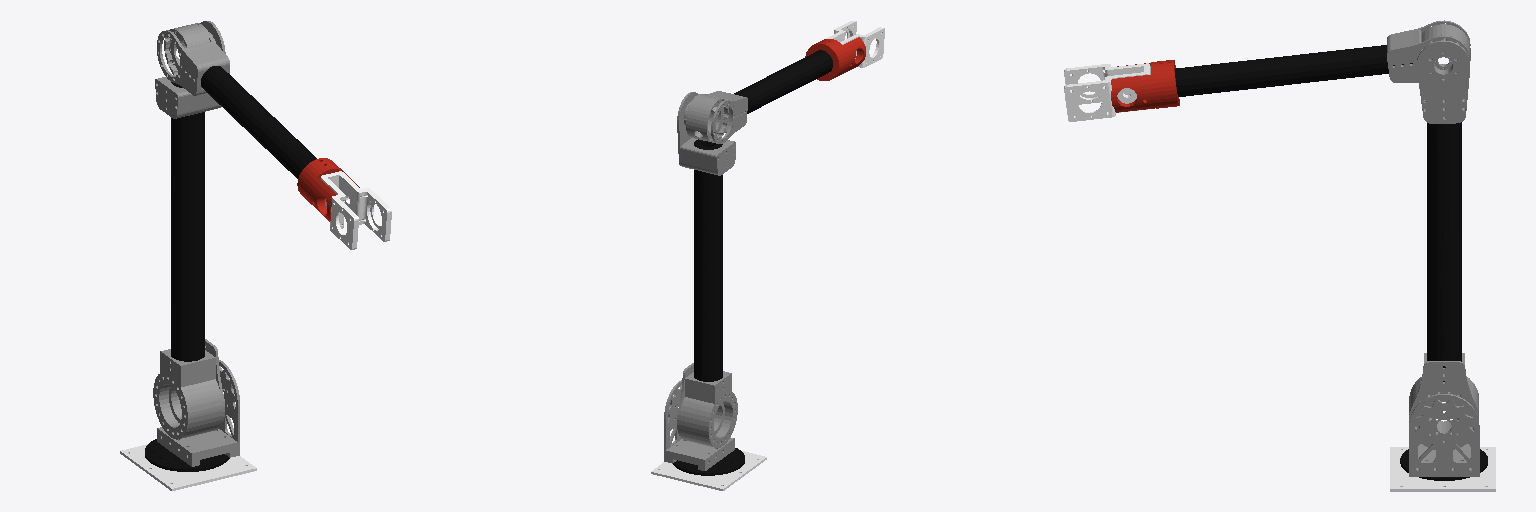
robot.urdf — manipulator1:
<?xml version="1.0" encoding="utf-8"?>
<!-- This URDF was automatically created by SolidWorks to URDF Exporter! Originally created by [author] ([email redacted]) 
     Commit Version: 1.6.0-4-g7f85cfe  Build Version: 1.6.7995.38578
     For more information, please see http://wiki.ros.org/sw_urdf_exporter -->
<robot
  name="manipulator1">
  <link
    name="base_link">
    <inertial>
      <origin
        xyz="-2.22044604925031E-16 -0.00224854905210781 4.44089209850063E-16"
        rpy="0 0 0" />
      <mass
        value="0.139707136084498" />
      <inertia
        ixx="0.000407966760717312"
        ixy="-2.98071223098969E-19"
        ixz="2.52359462446658E-18"
        iyy="0.000362153855961994"
        iyz="6.68817379847048E-18"
        izz="0.000769538503612287" />
    </inertial>
    <visual>
      <origin
        xyz="0 0 0"
        rpy="0 0 0" />
      <geometry>
        <mesh
          filename="package://manipulator1/meshes/base_link.STL" />
      </geometry>
      <material
        name="">
        <color
          rgba="0.96078431372549 0.96078431372549 0.964705882352941 1" />
      </material>
    </visual>
    <collision>
      <origin
        xyz="0 0 0"
        rpy="0 0 0" />
      <geometry>
        <mesh
          filename="package://manipulator1/meshes/base_link.STL" />
      </geometry>
    </collision>
  </link>
  <link
    name="base_plate">
    <inertial>
      <origin
        xyz="-1.22886286372248E-05 0 1.11022302462516E-16"
        rpy="0 0 0" />
      <mass
        value="0.0862820052494155" />
      <inertia
        ixx="0.000123802300064541"
        ixy="1.06663922016303E-19"
        ixz="8.84714563380274E-19"
        iyy="0.000121470538062705"
        iyz="2.03454754632287E-18"
        izz="0.00024491332977204" />
    </inertial>
    <visual>
      <origin
        xyz="0 0 0"
        rpy="0 0 0" />
      <geometry>
        <mesh
          filename="package://manipulator1/meshes/base_plate.STL" />
      </geometry>
      <material
        name="">
        <color
          rgba="0.0980392156862745 0.0980392156862745 0.0980392156862745 1" />
      </material>
    </visual>
    <collision>
      <origin
        xyz="0 0 0"
        rpy="0 0 0" />
      <geometry>
        <mesh
          filename="package://manipulator1/meshes/base_plate.STL" />
      </geometry>
    </collision>
  </link>
  <joint
    name="base_link_j_base_plate"
    type="revolute">
    <limit lower="-3.14" upper="3.14" effort="100" velocity="5.0"/>
    <origin
      xyz="0 0 0.015"
      rpy="0 0 0" />
    <parent
      link="base_link" />
    <child
      link="base_plate" />
    <axis
      xyz="0 0 -1" />
    <limit
      lower="0"
      upper="6.28"
      effort="500"
      velocity="5" />
  </joint>
  <link
    name="plate_support">
    <inertial>
      <origin
        xyz="4.44089209850063E-16 0.0599999999999996 9.42699875334796E-05"
        rpy="0 0 0" />
      <mass
        value="0.20022424904567" />
      <inertia
        ixx="0.000252771572791514"
        ixy="-4.18218020954489E-19"
        ixz="1.13901000627266E-18"
        iyy="0.000176249764770248"
        iyz="4.112236499079E-18"
        izz="0.00041080341734212" />
    </inertial>
    <visual>
      <origin
        xyz="0 0 0"
        rpy="0 0 0" />
      <geometry>
        <mesh
          filename="package://manipulator1/meshes/plate_support.STL" />
      </geometry>
      <material
        name="">
        <color
          rgba="0.627450980392157 0.627450980392157 0.627450980392157 1" />
      </material>
    </visual>
    <collision>
      <origin
        xyz="0 0 0"
        rpy="0 0 0" />
      <geometry>
        <mesh
          filename="package://manipulator1/meshes/plate_support.STL" />
      </geometry>
    </collision>
  </link>
  <joint
    name="baseplate_j_plate_support"
    type="fixed">
    <origin
      xyz="0.0195 -0.06 0.018179"
      rpy="0 0 0" />
    <parent
      link="base_plate" />
    <child
      link="plate_support" />
    <axis
      xyz="0 0 0" />
  </joint>
  <link
    name="link1_side_plate1">
    <inertial>
      <origin
        xyz="4.44089209850063E-16 0.0150134261644279 0.0554613514893123"
        rpy="0 0 0" />
      <mass
        value="0.0682158367067577" />
      <inertia
        ixx="0.000205387282310402"
        ixy="-5.49279557105901E-19"
        ixz="-9.74556171742922E-19"
        iyy="0.000126772358326724"
        iyz="-1.08018754993082E-08"
        izz="7.88991566366221E-05" />
    </inertial>
    <visual>
      <origin
        xyz="0 0 0"
        rpy="0 0 0" />
      <geometry>
        <mesh
          filename="package://manipulator1/meshes/link1_side_plate1.STL" />
      </geometry>
      <material
        name="">
        <color
          rgba="0.627450980392157 0.627450980392157 0.627450980392157 1" />
      </material>
    </visual>
    <collision>
      <origin
        xyz="0 0 0"
        rpy="0 0 0" />
      <geometry>
        <mesh
          filename="package://manipulator1/meshes/link1_side_plate1.STL" />
      </geometry>
    </collision>
  </link>
  <joint
    name="plate_support_j_sideplate1"
    type="fixed">
    <origin
      xyz="0.0485 0.045 -0.00067857"
      rpy="0 0 0" />
    <parent
      link="plate_support" />
    <child
      link="link1_side_plate1" />
    <axis
      xyz="0 0 0" />
  </joint>
  <link
    name="link1_side_plate12">
    <inertial>
      <origin
        xyz="4.44089209850063E-16 4.44089209850063E-16 0.0310582864617434"
        rpy="0 0 0" />
      <mass
        value="0.0499638320857503" />
      <inertia
        ixx="0.000167600746600551"
        ixy="9.28776659826906E-21"
        ixz="-1.33327816191701E-19"
        iyy="0.000117287241228739"
        iyz="-7.43091486371195E-19"
        izz="5.05216880055031E-05" />
    </inertial>
    <visual>
      <origin
        xyz="0 0 0"
        rpy="0 0 0" />
      <geometry>
        <mesh
          filename="package://manipulator1/meshes/link1_side_plate12.STL" />
      </geometry>
      <material
        name="">
        <color
          rgba="0.627450980392157 0.627450980392157 0.627450980392157 1" />
      </material>
    </visual>
    <collision>
      <origin
        xyz="0 0 0"
        rpy="0 0 0" />
      <geometry>
        <mesh
          filename="package://manipulator1/meshes/link1_side_plate12.STL" />
      </geometry>
    </collision>
  </link>
  <joint
    name="side_plate1_j_side_plate12"
    type="revolute">
    <limit lower="-3.14" upper="3.14" effort="100" velocity="5.0"/>
    <origin
      xyz="-0.03 0.015 0.08"
      rpy="0 0 0" />
    <parent
      link="link1_side_plate1" />
    <child
      link="link1_side_plate12" />
    <axis
      xyz="1 0 0" />
    <limit
      lower="-1.57"
      upper="1.57"
      effort="500"
      velocity="1" />
  </joint>
  <link
    name="outer_shaft1">
    <inertial>
      <origin
        xyz="-0.00772630874309455 4.44089209850063E-16 -1.11022302462516E-16"
        rpy="0 0 0" />
      <mass
        value="0.509143234421642" />
      <inertia
        ixx="0.00118267157071951"
        ixy="2.14660790273393E-19"
        ixz="-2.13692540459406E-19"
        iyy="0.000788001513669385"
        iyz="-2.07806932890846E-20"
        izz="0.000788001513669385" />
    </inertial>
    <visual>
      <origin
        xyz="0 0 0"
        rpy="0 0 0" />
      <geometry>
        <mesh
          filename="package://manipulator1/meshes/outer_shaft1.STL" />
      </geometry>
      <material
        name="">
        <color
          rgba="0.627450980392157 0.627450980392157 0.627450980392157 1" />
      </material>
    </visual>
    <collision>
      <origin
        xyz="0 0 0"
        rpy="0 0 0" />
      <geometry>
        <mesh
          filename="package://manipulator1/meshes/outer_shaft1.STL" />
      </geometry>
    </collision>
  </link>
  <joint
    name="side_plate12_j_outer_shaft1"
    type="fixed">
    <origin
      xyz="-0.028 0 0"
      rpy="0 0 0" />
    <parent
      link="link1_side_plate12" />
    <child
      link="outer_shaft1" />
    <axis
      xyz="0 0 0" />
  </joint>
  <link
    name="link1_holder">
    <inertial>
      <origin
        xyz="1.54143921293759E-07 -2.52144496393214E-08 -0.005799534584638"
        rpy="0 0 0" />
      <mass
        value="0.0841346188443606" />
      <inertia
        ixx="6.47642859009133E-05"
        ixy="8.23411710931886E-12"
        ixz="-1.08890847202512E-11"
        iyy="5.82653437006155E-05"
        iyz="2.9352113029424E-12"
        izz="0.000103444871427076" />
    </inertial>
    <visual>
      <origin
        xyz="0 0 0"
        rpy="0 0 0" />
      <geometry>
        <mesh
          filename="package://manipulator1/meshes/link1_holder.STL" />
      </geometry>
      <material
        name="">
        <color
          rgba="0.627450980392157 0.627450980392157 0.627450980392157 1" />
      </material>
    </visual>
    <collision>
      <origin
        xyz="0 0 0"
        rpy="0 0 0" />
      <geometry>
        <mesh
          filename="package://manipulator1/meshes/link1_holder.STL" />
      </geometry>
    </collision>
  </link>
  <joint
    name="outer_shaft1_j_link1_holder"
    type="fixed">
    <origin
      xyz="-0.0095001 0 0.076"
      rpy="0 0 0" />
    <parent
      link="outer_shaft1" />
    <child
      link="link1_holder" />
    <axis
      xyz="0 0 0" />
  </joint>
  <link
    name="link1">
    <inertial>
      <origin
        xyz="2.61491217568022E-09 -1.96853406908559E-08 -1.68497195167649E-05"
        rpy="0 0 0" />
      <mass
        value="1.16262072100795" />
      <inertia
        ixx="0.0294764673709808"
        ixy="-7.58278885604543E-09"
        ixz="3.71883808278725E-09"
        iyy="0.0294766181912142"
        iyz="5.34641410549775E-09"
        izz="0.000654113236445879" />
    </inertial>
    <visual>
      <origin
        xyz="0 0 0"
        rpy="0 0 0" />
      <geometry>
        <mesh
          filename="package://manipulator1/meshes/link1.STL" />
      </geometry>
      <material
        name="">
        <color
          rgba="0.0980392156862745 0.0980392156862745 0.0980392156862745 1" />
      </material>
    </visual>
    <collision>
      <origin
        xyz="0 0 0"
        rpy="0 0 0" />
      <geometry>
        <mesh
          filename="package://manipulator1/meshes/link1.STL" />
      </geometry>
    </collision>
  </link>
  <joint
    name="link1_holder_j_link1"
    type="fixed">
    <origin
      xyz="0 0 0.26095"
      rpy="0 0 0" />
    <parent
      link="link1_holder" />
    <child
      link="link1" />
    <axis
      xyz="0 0 0" />
  </joint>
  <link
    name="link1_end_part">
    <inertial>
      <origin
        xyz="-1.74060011626231E-07 1.57060774164108E-07 0.00113323234783302"
        rpy="0 0 0" />
      <mass
        value="0.171901132424438" />
      <inertia
        ixx="0.000147281829071962"
        ixy="-2.17389957093923E-11"
        ixz="-4.90680401859828E-10"
        iyy="0.000200174484694879"
        iyz="1.42730130731353E-09"
        izz="0.000271952693993483" />
    </inertial>
    <visual>
      <origin
        xyz="0 0 0"
        rpy="0 0 0" />
      <geometry>
        <mesh
          filename="package://manipulator1/meshes/link1_end_part.STL" />
      </geometry>
      <material
        name="">
        <color
          rgba="0.627450980392157 0.627450980392157 0.627450980392157 1" />
      </material>
    </visual>
    <collision>
      <origin
        xyz="0 0 0"
        rpy="0 0 0" />
      <geometry>
        <mesh
          filename="package://manipulator1/meshes/link1_end_part.STL" />
      </geometry>
    </collision>
  </link>
  <joint
    name="link1_J_end_part"
    type="fixed">
    <origin
      xyz="0 0 0.24912"
      rpy="0 0 0" />
    <parent
      link="link1" />
    <child
      link="link1_end_part" />
    <axis
      xyz="0 0 0" />
  </joint>
  <link
    name="link2_side_plate11">
    <inertial>
      <origin
        xyz="5.55111512312578E-16 -0.000621912582690287 0.0311549842986414"
        rpy="0 0 0" />
      <mass
        value="0.0528050348230078" />
      <inertia
        ixx="0.000126324772056133"
        ixy="1.50694660718213E-20"
        ixz="-5.54646076186613E-20"
        iyy="9.4701438016944E-05"
        iyz="1.25526676387361E-06"
        izz="3.18433550176184E-05" />
    </inertial>
    <visual>
      <origin
        xyz="0 0 0"
        rpy="0 0 0" />
      <geometry>
        <mesh
          filename="package://manipulator1/meshes/link2_side_plate11.STL" />
      </geometry>
      <material
        name="">
        <color
          rgba="0.627450980392157 0.627450980392157 0.627450980392157 1" />
      </material>
    </visual>
    <collision>
      <origin
        xyz="0 0 0"
        rpy="0 0 0" />
      <geometry>
        <mesh
          filename="package://manipulator1/meshes/link2_side_plate11.STL" />
      </geometry>
    </collision>
  </link>
  <joint
    name="end_part_j_side_plate11"
    type="fixed">
    <origin
      xyz="0.0455 0 0.015927"
      rpy="0 0 0" />
    <parent
      link="link1_end_part" />
    <child
      link="link2_side_plate11" />
    <axis
      xyz="0 0 0" />
  </joint>
  <link
    name="motor_holder">
    <inertial>
      <origin
        xyz="-0.00584650550007593 -2.22044604925031E-16 -4.44089209850063E-16"
        rpy="0 0 0" />
      <mass
        value="0.031956101125965" />
      <inertia
        ixx="1.46272579690827E-05"
        ixy="-3.04094854525027E-22"
        ixz="-1.34311000273746E-20"
        iyy="8.61130071305443E-06"
        iyz="2.56712386368993E-21"
        izz="8.61130071305441E-06" />
    </inertial>
    <visual>
      <origin
        xyz="0 0 0"
        rpy="0 0 0" />
      <geometry>
        <mesh
          filename="package://manipulator1/meshes/motor_holder.STL" />
      </geometry>
      <material
        name="">
        <color
          rgba="0.627450980392157 0.627450980392157 0.627450980392157 1" />
      </material>
    </visual>
    <collision>
      <origin
        xyz="0 0 0"
        rpy="0 0 0" />
      <geometry>
        <mesh
          filename="package://manipulator1/meshes/motor_holder.STL" />
      </geometry>
    </collision>
  </link>
  <joint
    name="link2_side_plate11_j_motor_holder"
    type="fixed">
    <origin
      xyz="-0.00675 -0.0013172 0.065987"
      rpy="0 0 0" />
    <parent
      link="link2_side_plate11" />
    <child
      link="motor_holder" />
    <axis
      xyz="0 0 0" />
  </joint>
  <link
    name="link2_side_plate_12">
    <inertial>
      <origin
        xyz="5.55111512312578E-16 -0.039717131815086 -0.00491984724371952"
        rpy="0 0 0" />
      <mass
        value="0.0287294522350535" />
      <inertia
        ixx="6.13941167735551E-05"
        ixy="3.3920635179007E-20"
        ixz="-6.2467002738095E-21"
        iyy="1.74811605790006E-05"
        iyz="-3.34024586969494E-06"
        izz="4.40326622455339E-05" />
    </inertial>
    <visual>
      <origin
        xyz="0 0 0"
        rpy="0 0 0" />
      <geometry>
        <mesh
          filename="package://manipulator1/meshes/link2_side_plate_12.STL" />
      </geometry>
      <material
        name="">
        <color
          rgba="0.627450980392157 0.627450980392157 0.627450980392157 1" />
      </material>
    </visual>
    <collision>
      <origin
        xyz="0 0 0"
        rpy="0 0 0" />
      <geometry>
        <mesh
          filename="package://manipulator1/meshes/link2_side_plate_12.STL" />
      </geometry>
    </collision>
  </link>
  <joint
    name="motor_holder_j_side_plate_12"
    type="revolute">
    <limit lower="-3.14" upper="3.14" effort="100" velocity="5.0"/>
    <origin
      xyz="-0.01325 0 0"
      rpy="0 0 0" />
    <parent
      link="motor_holder" />
    <child
      link="link2_side_plate_12" />
    <axis
      xyz="-1 0 0" />
    <limit
      lower="-0.1"
      upper="1.57"
      effort="500"
      velocity="1" />
  </joint>
  <link
    name="outer_shaft2">
    <inertial>
      <origin
        xyz="-0.00185202704146603 -9.2405662460493E-05 6.41056320225264E-05"
        rpy="0 0 0" />
      <mass
        value="0.136055116672961" />
      <inertia
        ixx="0.000202629151935712"
        ixy="-4.64394915785094E-08"
        ixz="3.22327908017919E-08"
        iyy="0.000124866679772093"
        iyz="-5.47298364929438E-06"
        izz="0.000116146064523454" />
    </inertial>
    <visual>
      <origin
        xyz="0 0 0"
        rpy="0 0 0" />
      <geometry>
        <mesh
          filename="package://manipulator1/meshes/outer_shaft2.STL" />
      </geometry>
      <material
        name="">
        <color
          rgba="0.627450980392157 0.627450980392157 0.627450980392157 1" />
      </material>
    </visual>
    <collision>
      <origin
        xyz="0 0 0"
        rpy="0 0 0" />
      <geometry>
        <mesh
          filename="package://manipulator1/meshes/outer_shaft2.STL" />
      </geometry>
    </collision>
  </link>
  <joint
    name="link2_side_plate_j_outer_shaft2"
    type="fixed">
    <origin
      xyz="-0.019951 0 0"
      rpy="0 0 0" />
    <parent
      link="link2_side_plate_12" />
    <child
      link="outer_shaft2" />
    <axis
      xyz="0 0 0" />
  </joint>
  <link
    name="link2_side_plate22">
    <inertial>
      <origin
        xyz="3.33066907387547E-16 -0.0397171318150851 -0.00491984724371974"
        rpy="0 0 0" />
      <mass
        value="0.0287294522350539" />
      <inertia
        ixx="6.13941167735567E-05"
        ixy="1.26868156330376E-21"
        ixz="-3.27976997977857E-20"
        iyy="1.74811605790008E-05"
        iyz="-3.34024586969501E-06"
        izz="4.40326622455353E-05" />
    </inertial>
    <visual>
      <origin
        xyz="0 0 0"
        rpy="0 0 0" />
      <geometry>
        <mesh
          filename="package://manipulator1/meshes/link2_side_plate22.STL" />
      </geometry>
      <material
        name="">
        <color
          rgba="0.627450980392157 0.627450980392157 0.627450980392157 1" />
      </material>
    </visual>
    <collision>
      <origin
        xyz="0 0 0"
        rpy="0 0 0" />
      <geometry>
        <mesh
          filename="package://manipulator1/meshes/link2_side_plate22.STL" />
      </geometry>
    </collision>
  </link>
  <joint
    name="outer_shaft_j_side_plate22"
    type="fixed">
    <origin
      xyz="-0.040049 0 0"
      rpy="0 0 0" />
    <parent
      link="outer_shaft2" />
    <child
      link="link2_side_plate22" />
    <axis
      xyz="0 0 0" />
  </joint>
  <link
    name="link2_holder">
    <inertial>
      <origin
        xyz="2.0619170283398E-06 0.00813205255589899 0.0010073901871086"
        rpy="0 0 0" />
      <mass
        value="0.0930218057872073" />
      <inertia
        ixx="8.39198156970618E-05"
        ixy="-2.6718650837238E-09"
        ixz="-1.77919164025414E-10"
        iyy="9.05510577582414E-05"
        iyz="4.13970788127066E-06"
        izz="5.76455888171896E-05" />
    </inertial>
    <visual>
      <origin
        xyz="0 0 0"
        rpy="0 0 0" />
      <geometry>
        <mesh
          filename="package://manipulator1/meshes/link2_holder.STL" />
      </geometry>
      <material
        name="">
        <color
          rgba="0.627450980392157 0.627450980392157 0.627450980392157 1" />
      </material>
    </visual>
    <collision>
      <origin
        xyz="0 0 0"
        rpy="0 0 0" />
      <geometry>
        <mesh
          filename="package://manipulator1/meshes/link2_holder.STL" />
      </geometry>
    </collision>
  </link>
  <joint
    name="outer_shaft2_J_link2_holder"
    type="fixed">
    <origin
      xyz="-0.01005 -0.070375 -0.0087174"
      rpy="0 0 0" />
    <parent
      link="outer_shaft2" />
    <child
      link="link2_holder" />
    <axis
      xyz="0 0 0" />
  </joint>
  <link
    name="link2">
    <inertial>
      <origin
        xyz="3.32665672786447E-09 -6.24214728683903E-06 -7.73723946023708E-07"
        rpy="0 0 0" />
      <mass
        value="0.738793048590476" />
      <inertia
        ixx="0.0125139162815572"
        ixy="-2.37710463237503E-08"
        ixz="1.91853538131335E-07"
        iyy="0.000453023321934702"
        iyz="-0.00149413526024665"
        izz="0.0123298546752209" />
    </inertial>
    <visual>
      <origin
        xyz="0 0 0"
        rpy="0 0 0" />
      <geometry>
        <mesh
          filename="package://manipulator1/meshes/link2.STL" />
      </geometry>
      <material
        name="">
        <color
          rgba="0.0980392156862745 0.0980392156862745 0.0980392156862745 1" />
      </material>
    </visual>
    <collision>
      <origin
        xyz="0 0 0"
        rpy="0 0 0" />
      <geometry>
        <mesh
          filename="package://manipulator1/meshes/link2.STL" />
      </geometry>
    </collision>
  </link>
  <joint
    name="link2_holder_j_link2"
    type="fixed">
    <origin
      xyz="0 -0.19958 -0.024722"
      rpy="0 0 0" />
    <parent
      link="link2_holder" />
    <child
      link="link2" />
    <axis
      xyz="0 0 0" />
  </joint>
  <link
    name="link3_holder">
    <inertial>
      <origin
        xyz="-1.32817367659577E-07 -0.021143199221398 -0.00254036448894812"
        rpy="0 0 0" />
      <mass
        value="0.188164299848226" />
      <inertia
        ixx="0.000263210682129164"
        ixy="-1.24136411525225E-09"
        ixz="-5.02555876414802E-11"
        iyy="0.000219043978272138"
        iyz="-1.13273894097352E-05"
        izz="0.000310780367033102" />
    </inertial>
    <visual>
      <origin
        xyz="0 0 0"
        rpy="0 0 0" />
      <geometry>
        <mesh
          filename="package://manipulator1/meshes/link3_holder.STL" />
      </geometry>
      <material
        name="">
        <color
          rgba="0.768627450980392 0.207843137254902 0.152941176470588 1" />
      </material>
    </visual>
    <collision>
      <origin
        xyz="0 0 0"
        rpy="0 0 0" />
      <geometry>
        <mesh
          filename="package://manipulator1/meshes/link3_holder.STL" />
      </geometry>
    </collision>
  </link>
  <joint
    name="link2_j_link3_holder"
    type="fixed">
    <origin
      xyz="0 -0.20401 -0.025271"
      rpy="0 0 0" />
    <parent
      link="link2" />
    <child
      link="link3_holder" />
    <axis
      xyz="0 0 0" />
  </joint>
  <link
    name="link3">
    <inertial>
      <origin
        xyz="-0.0170000000959188 -0.0187763595650603 -0.00238682781019572"
        rpy="0 0 0" />
      <mass
        value="0.199449879103002" />
      <inertia
        ixx="0.000445645399692473"
        ixy="3.90013518644957E-12"
        ixz="-3.30846133775281E-11"
        iyy="0.000202127226065979"
        iyz="-3.54670309739077E-05"
        izz="0.000475268786200657" />
    </inertial>
    <visual>
      <origin
        xyz="0 0 0"
        rpy="0 0 0" />
      <geometry>
        <mesh
          filename="package://manipulator1/meshes/link3.STL" />
      </geometry>
      <material
        name="">
        <color
          rgba="1 1 1 0.35" />
      </material>
    </visual>
    <collision>
      <origin
        xyz="0 0 0"
        rpy="0 0 0" />
      <geometry>
        <mesh
          filename="package://manipulator1/meshes/link3.STL" />
      </geometry>
    </collision>
  </link>
  <joint
    name="link3_holder_j_link3"
    type="fixed">
    <origin
      xyz="0.0175 -0.064892 -0.0080382"
      rpy="0 0 0" />
    <parent
      link="link3_holder" />
    <child
      link="link3" />
    <axis
      xyz="0 0 0" />
  </joint>
</robot>

--- Facts derived from the render (not from the file) ---
Views: 3 orthographic renders of the robot side by side, from view 1: azimuth 30°, elevation 25°; view 2: azimuth 150°, elevation 25°; view 3: azimuth 270°, elevation 25°.
Robot: manipulator1 — 18 links, 17 joints (3 revolute, 14 fixed); root link base_link; default pose: all joints at 0.
Visible links, largest first — view 1: link1, link2, outer_shaft1, link3, base_link, plate_support, link1_end_part, link3_holder, link1_holder, link2_side_plate22, base_plate, link1_side_plate1 (+2 smaller); view 2: link1, outer_shaft1, link2, link1_end_part, base_link, outer_shaft2, link3_holder, plate_support, link3, link1_holder, link2_side_plate22, base_plate (+1 smaller); view 3: link1, link2, link1_side_plate1, link2_side_plate11, link3, link3_holder, base_link, link1_side_plate12, link2_side_plate_12, outer_shaft1, outer_shaft2.
Boxes of the visible links, x1,y1,x2,y2 form: link1: [171, 82, 204, 361]; link2: [201, 66, 316, 178]; outer_shaft1: [153, 372, 222, 439]; link3: [321, 171, 391, 249]; base_link: [120, 444, 256, 490]; plate_support: [157, 427, 237, 466]; link1_end_part: [155, 75, 219, 118]; link3_holder: [297, 158, 359, 221]; link1_holder: [160, 349, 215, 386]; link2_side_plate22: [157, 30, 199, 95]; base_plate: [145, 439, 229, 471]; link1_side_plate1: [219, 360, 239, 455]; link1: [694, 139, 722, 381]; outer_shaft1: [679, 391, 737, 447]; link2: [734, 50, 832, 113]; link1_end_part: [680, 138, 735, 175]; base_link: [651, 451, 766, 490]; outer_shaft2: [688, 94, 728, 142]; link3_holder: [805, 37, 865, 80]; plate_support: [666, 437, 734, 470]; link3: [826, 21, 884, 67]; link1_holder: [685, 371, 731, 403]; link2_side_plate22: [711, 97, 747, 143]; base_plate: [673, 448, 744, 475]; link1: [1427, 122, 1461, 381]; link2: [1175, 45, 1412, 96]; link1_side_plate1: [1409, 394, 1479, 476]; link2_side_plate11: [1417, 40, 1469, 123]; link3: [1064, 63, 1150, 121]; link3_holder: [1111, 60, 1179, 112]; base_link: [1390, 447, 1495, 491]; link1_side_plate12: [1409, 361, 1478, 449]; link2_side_plate_12: [1387, 35, 1470, 82]; outer_shaft1: [1409, 376, 1478, 433]; outer_shaft2: [1421, 24, 1470, 58].
Bounding box of the posed robot: 0.17 × 0.7359 × 0.829 m (x, y, z).
Meshes: 18 distinct files referenced, 18 mesh visuals loaded (18 binary STL).
